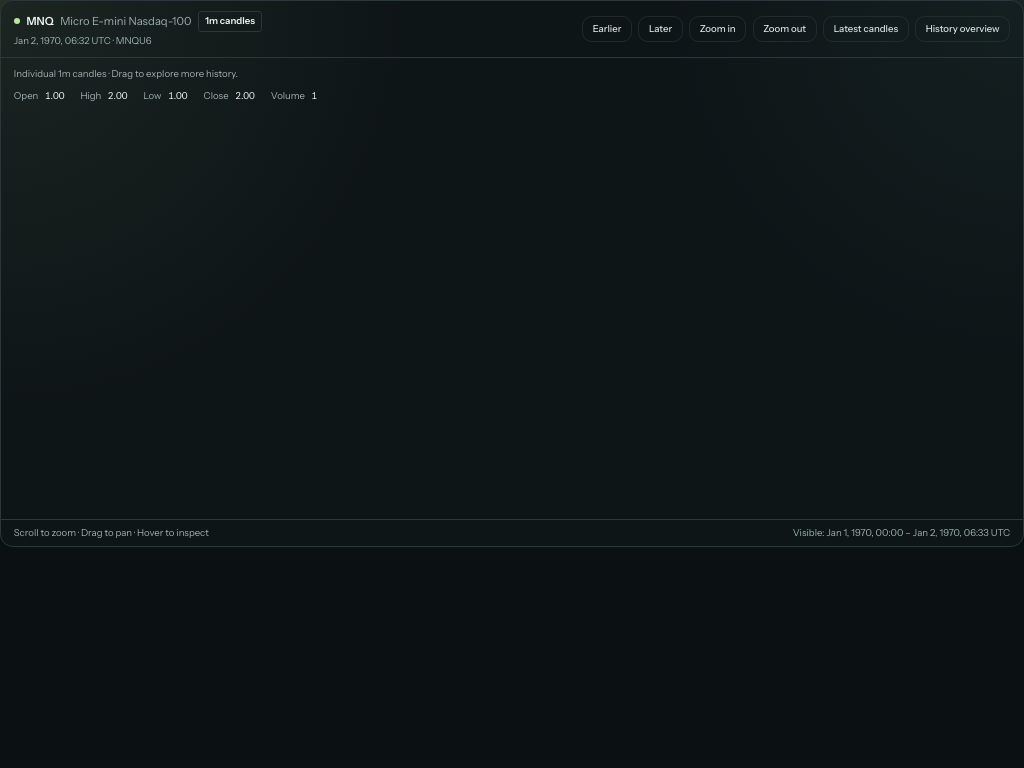
Test: never switches minute mode into an overview when zoomed out across the entire date range
The image size is (1024, 768).
Expected: the text "1m candles" is shown, [198, 11, 262, 32]
Expected: the text "Grouped overview" is not shown
Click the button "History overview" at (963, 29), box [915, 16, 1010, 42]
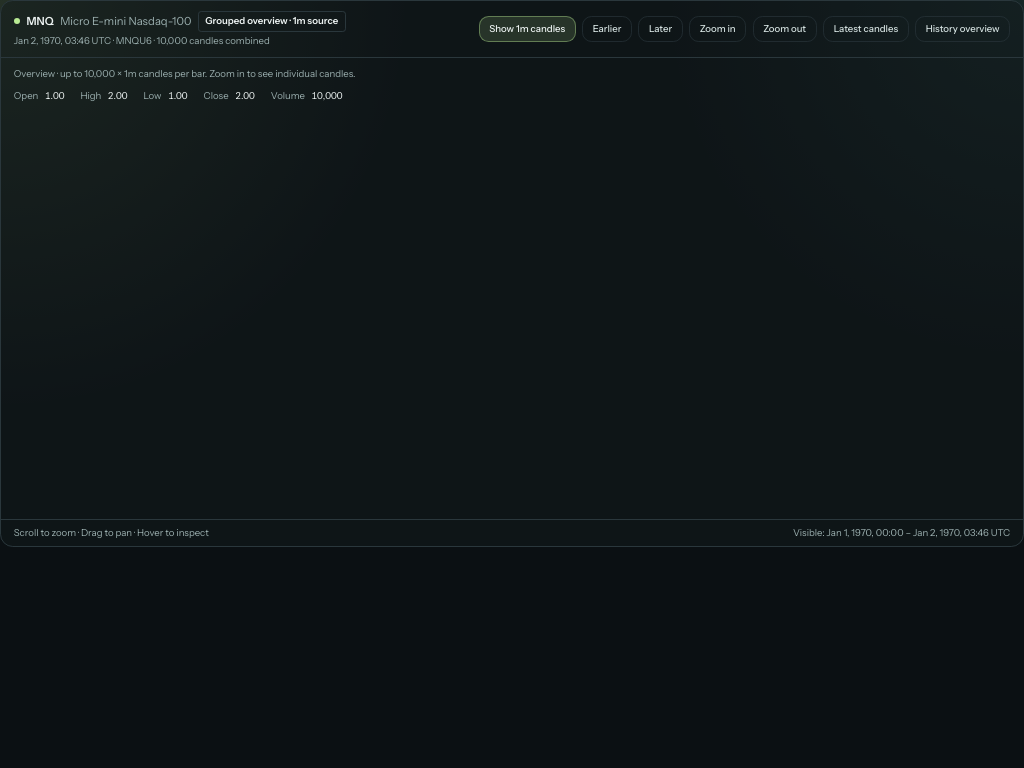
Expected: the text "Grouped overview · 1m source" is shown, [198, 11, 346, 32]
